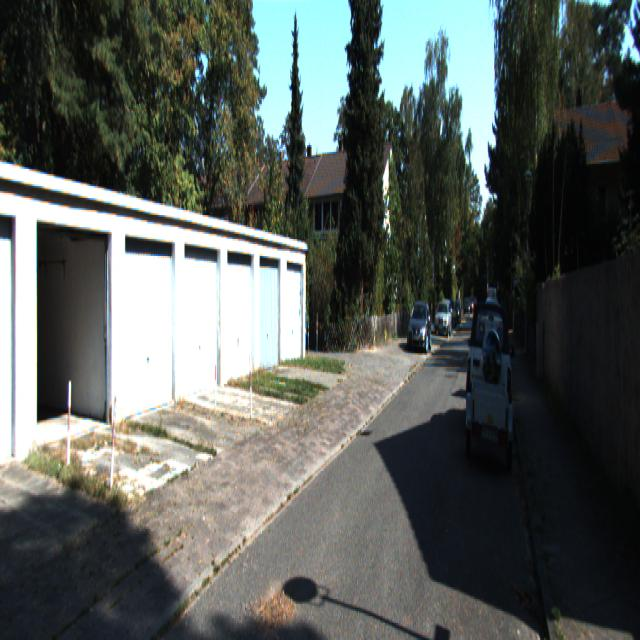Car: (466, 288, 511, 432), (471, 371, 511, 467), (407, 300, 432, 352), (435, 300, 453, 336)
